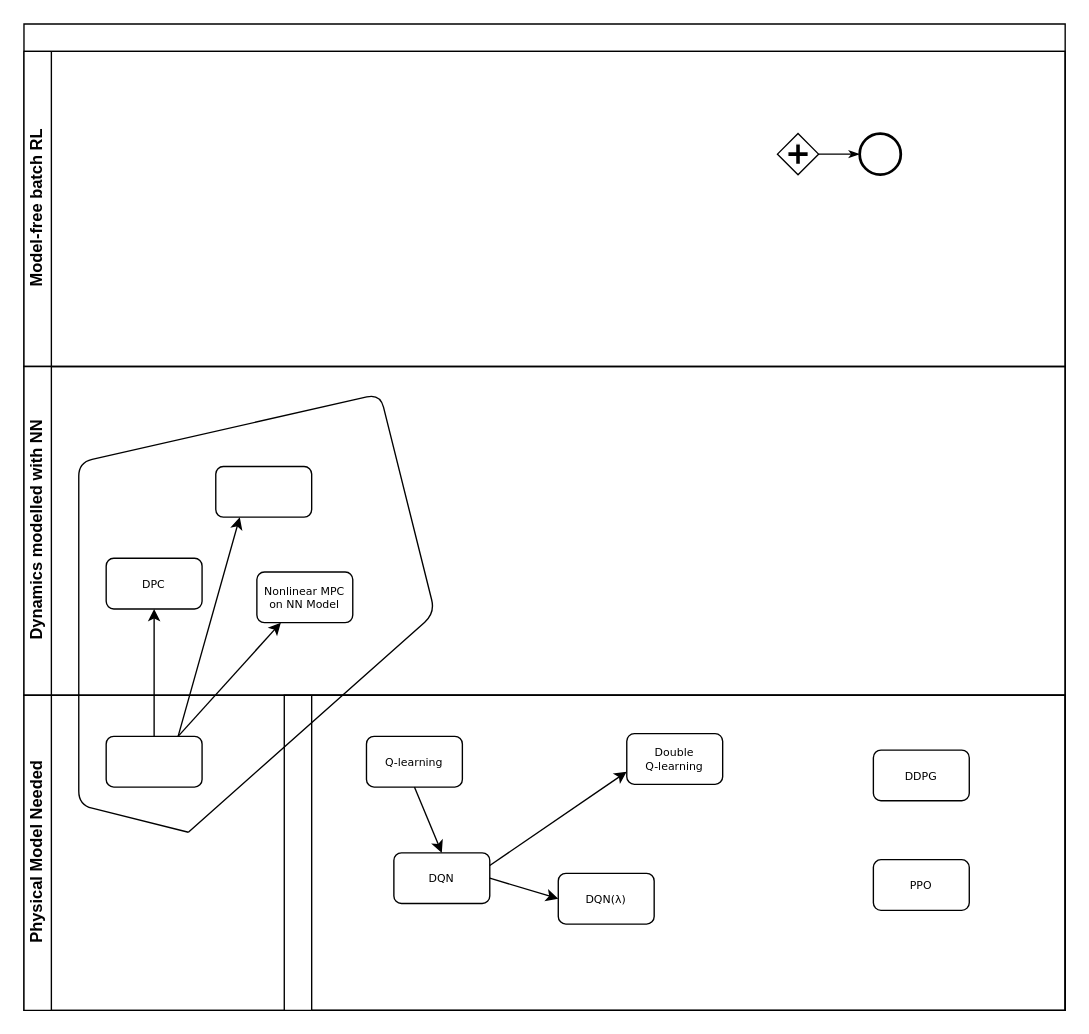
The diagram is 1089 pixels wide and 1034 high, and some of its shapes have lost their labels. The shapes that lost their labels are listed below. From the top down, each one's centre as x and y in pixels, then its label:
At point 263,491: "ICRNN + MPC".
At point 153,761: "MPC".
At point 674,852: "Online RL".
